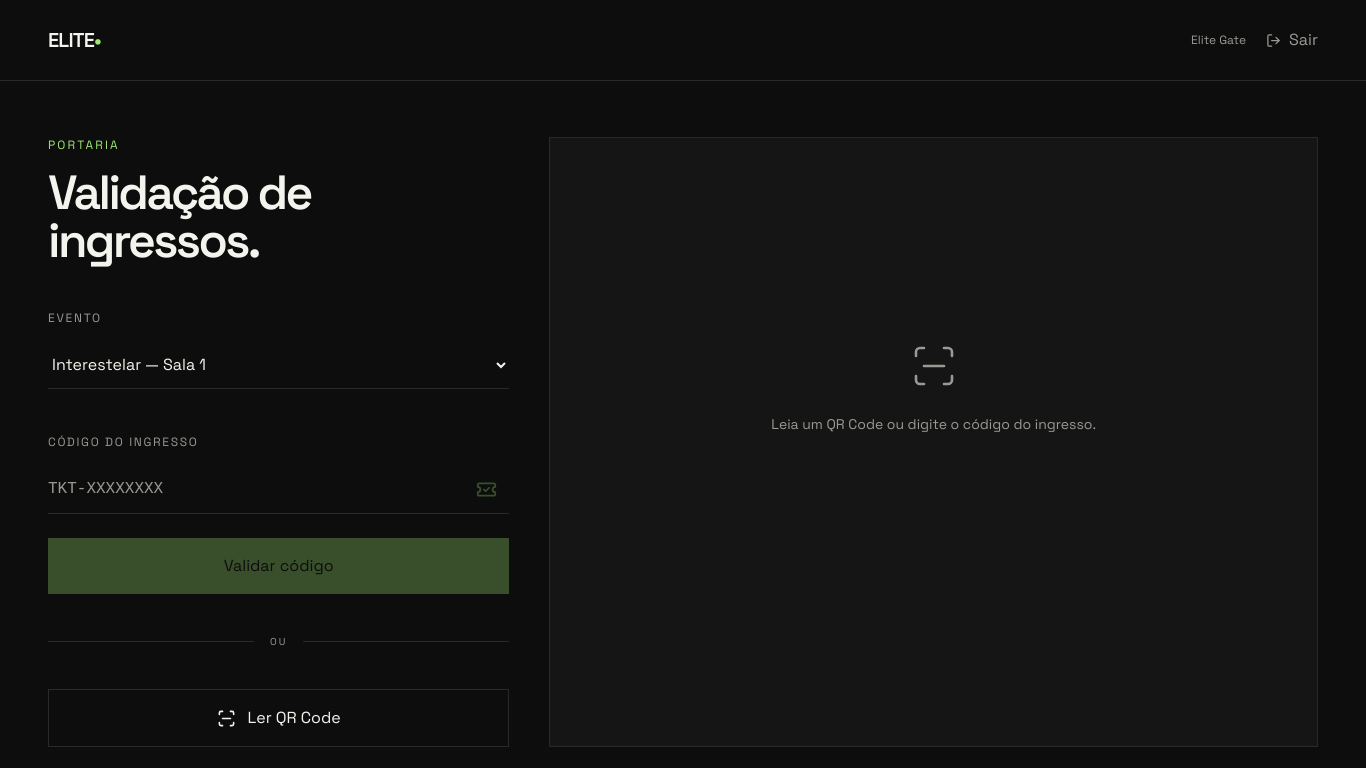
Scenario: GatePage › mostra entrada liberada para ingresso válido
The width and height of the screenshot is (1366, 768).
In the field with placeholder "TKT-XXXXXXXX": (256, 489) [48,465,464,513], type "TKT-VALID123"
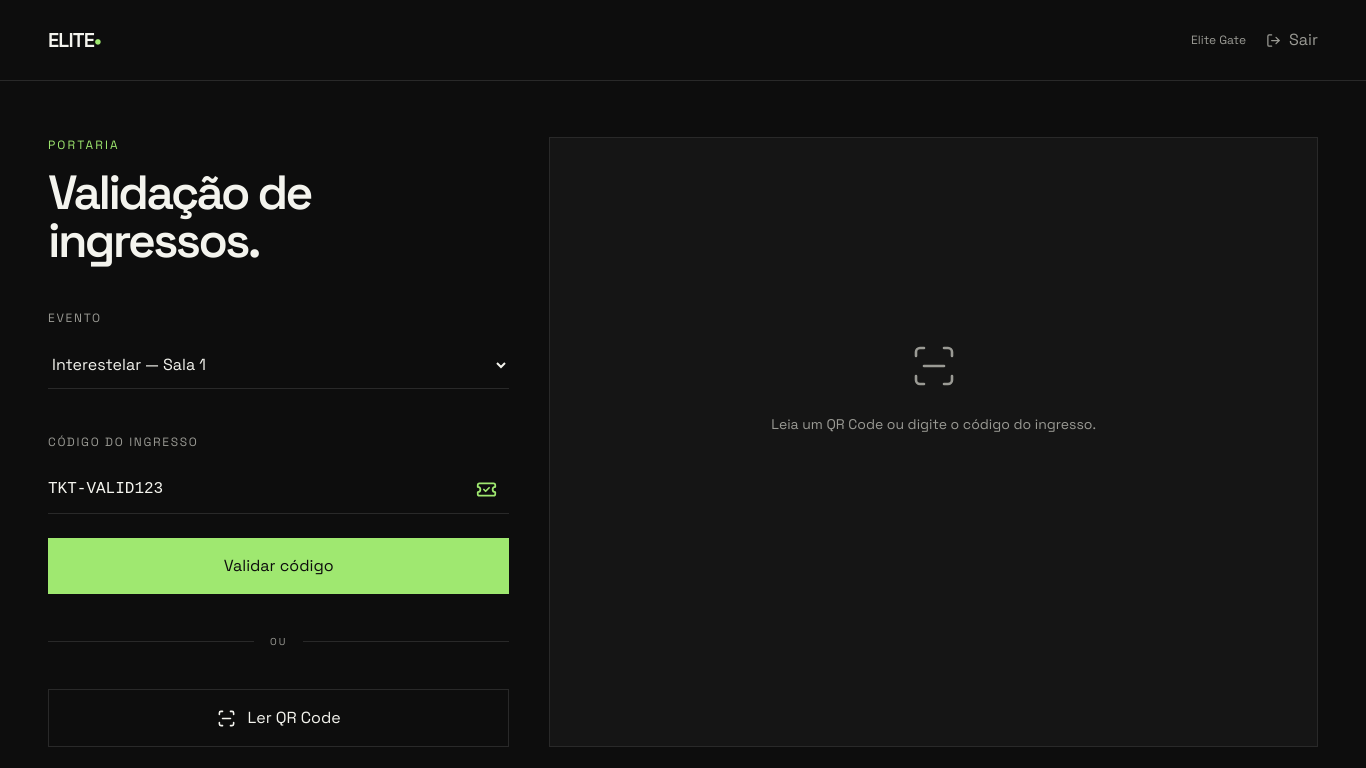
Click the button "Validar código": (279, 566) [48,538,509,594]
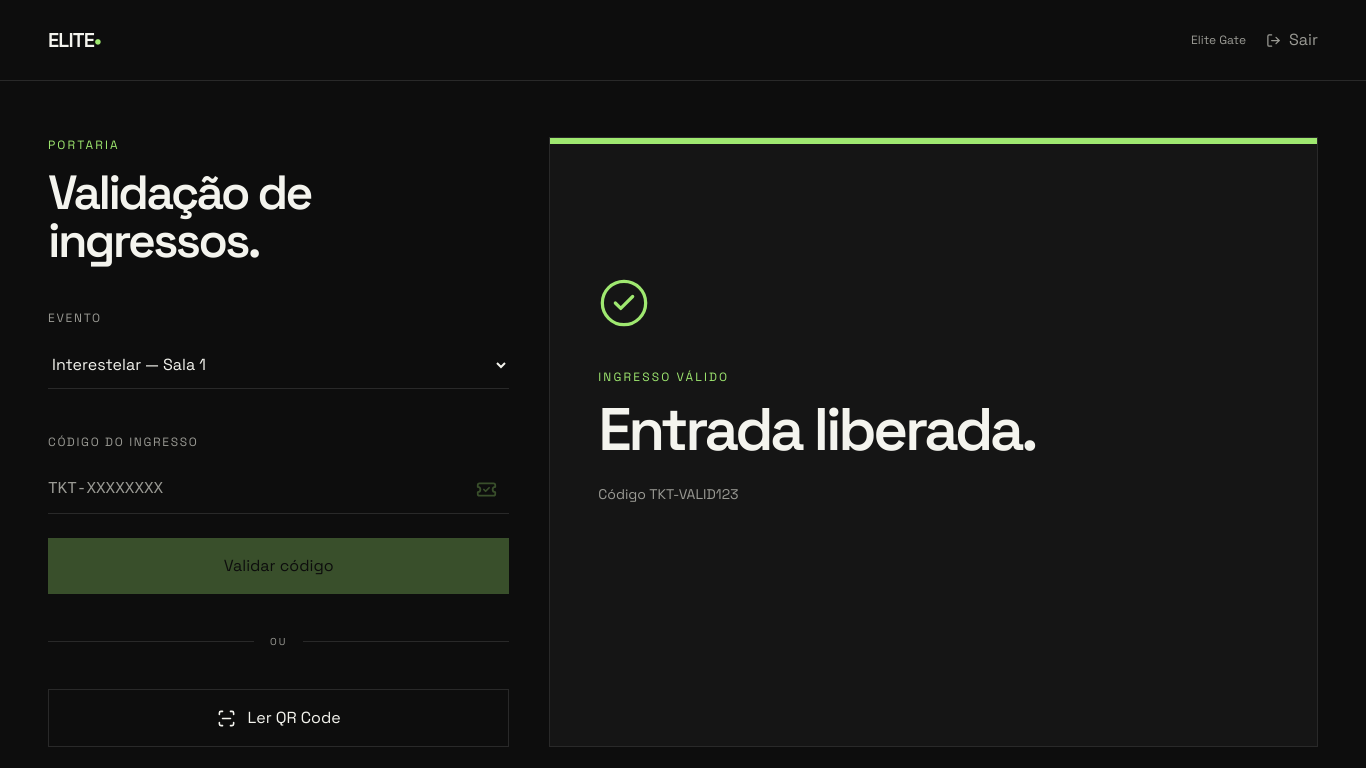
Check: the heading "Entrada liberada." is shown, box [598,400,1035,458]
Check: the text "Código TKT-VALID123" is shown, box [598,484,738,502]
